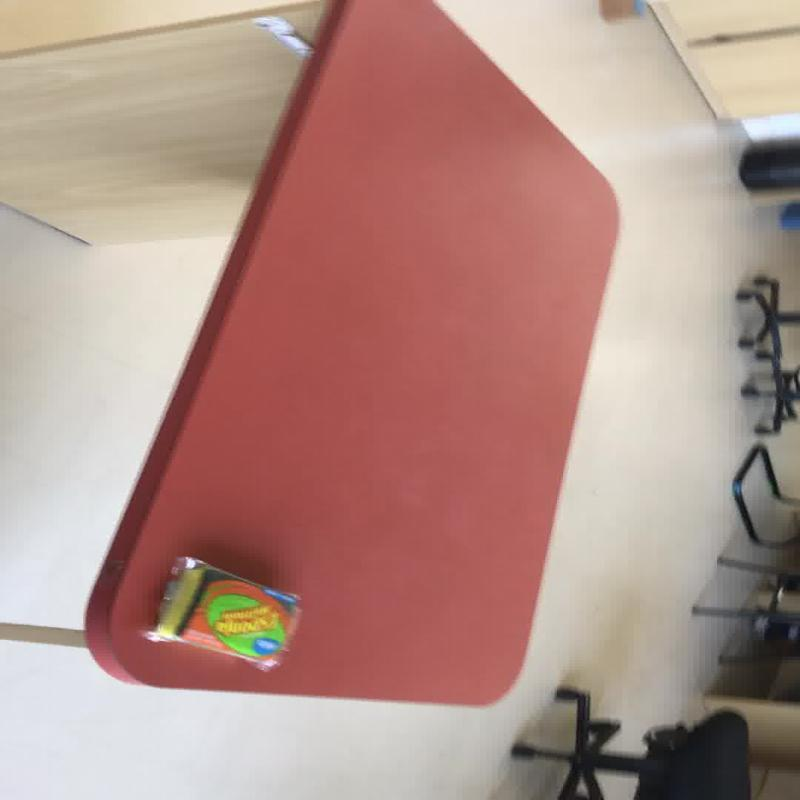sponge: (144, 556, 302, 672)
